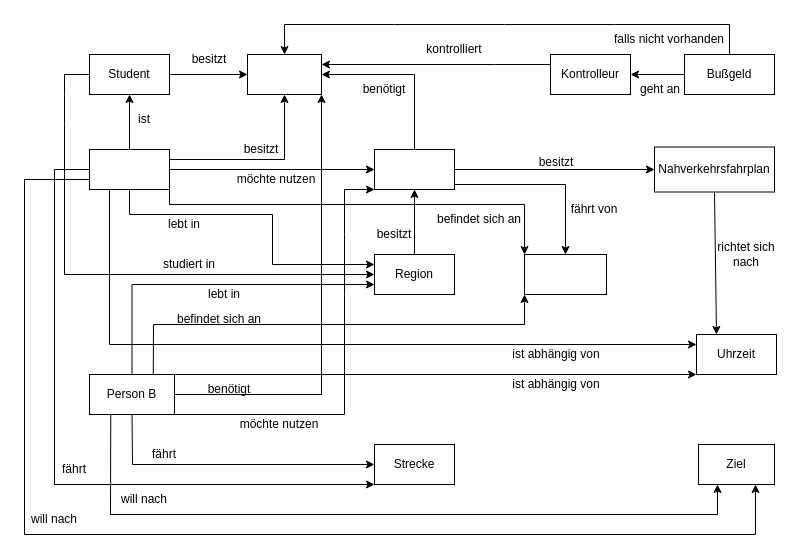
This 794x560 diagram has some shape labels left out. The centre of each missing label's shape, as x and y in pixels:
Nahverkehr: (414,169)
Person A: (129,169)
Standort: (565,274)
Ticket: (284,74)
